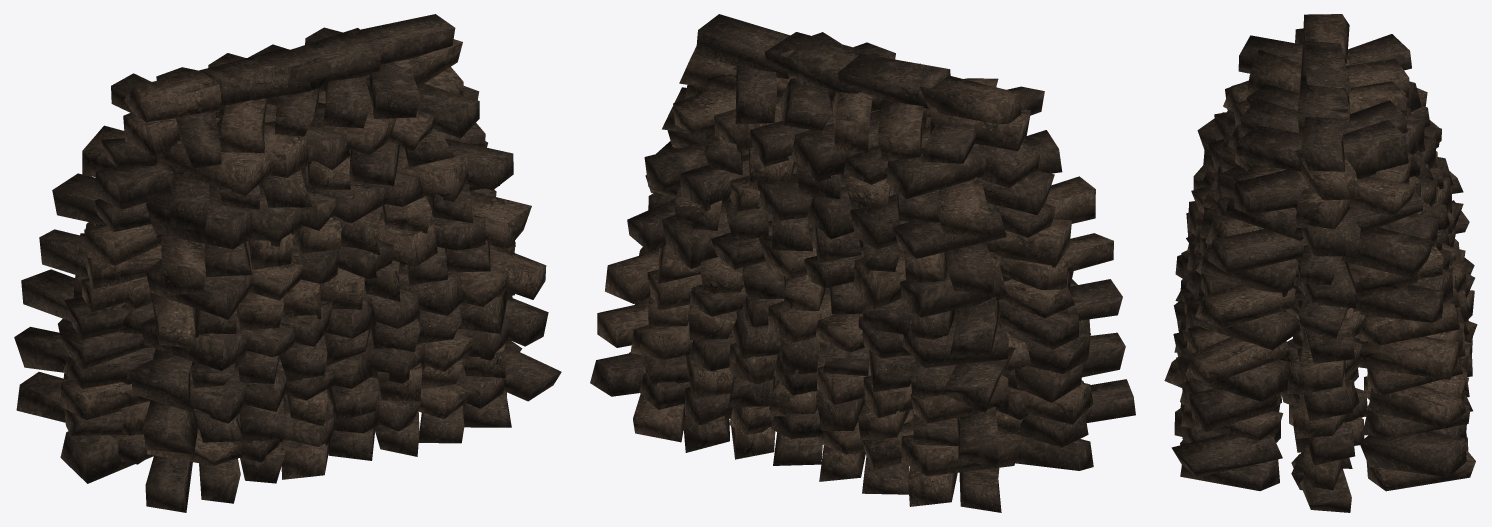
File: kit_lw_peat_stack_p.glb
The picture shows the model from 3 angles, left to right: view 1: azimuth 30°, elevation 25°; view 2: azimuth 150°, elevation 25°; view 3: azimuth 270°, elevation 25°; orthographic projection. The views are drawn at different scales.
Parts seen in each view (by area): view 1: kit_lw_peat_stack_p; view 2: kit_lw_peat_stack_p; view 3: kit_lw_peat_stack_p.
Boxes of the visible parts, <box> form: kit_lw_peat_stack_p: <box>14,14,561,512</box>; kit_lw_peat_stack_p: <box>590,14,1135,512</box>; kit_lw_peat_stack_p: <box>1164,14,1477,512</box>.
Size of the model in its own units: 1.86 by 1.45 by 1.19.
Materials: 1 (1 with a texture image).
